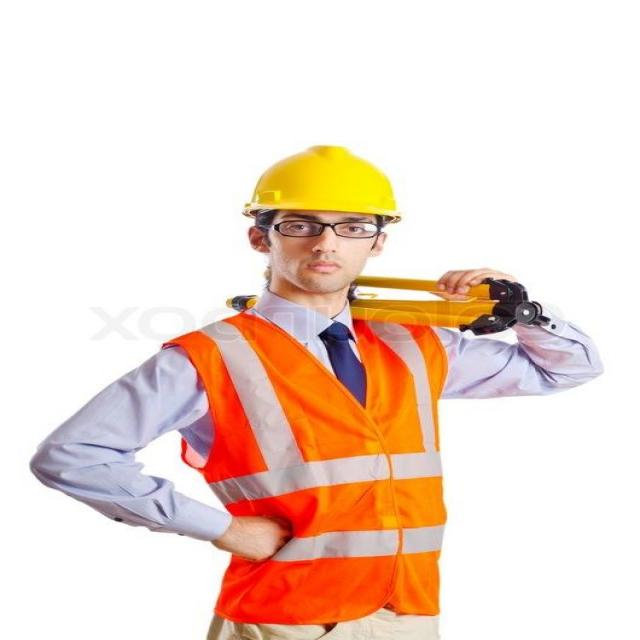Reflective-Jacket: (170, 301, 454, 621)
Safety-Helmet: (237, 140, 407, 225)
